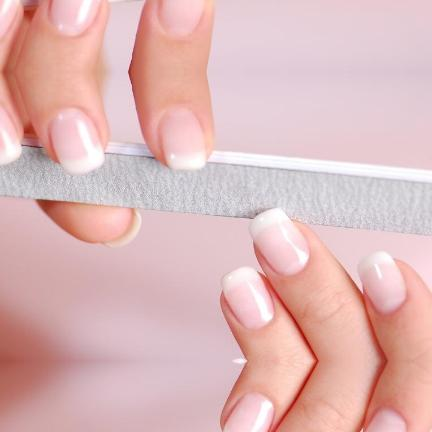Nail: (248, 207, 310, 275), (48, 107, 105, 173), (220, 265, 275, 328), (357, 250, 406, 314), (159, 105, 207, 169), (223, 393, 275, 432), (48, 0, 101, 35), (159, 0, 205, 37), (0, 105, 22, 167), (365, 407, 406, 432), (0, 0, 21, 37)
